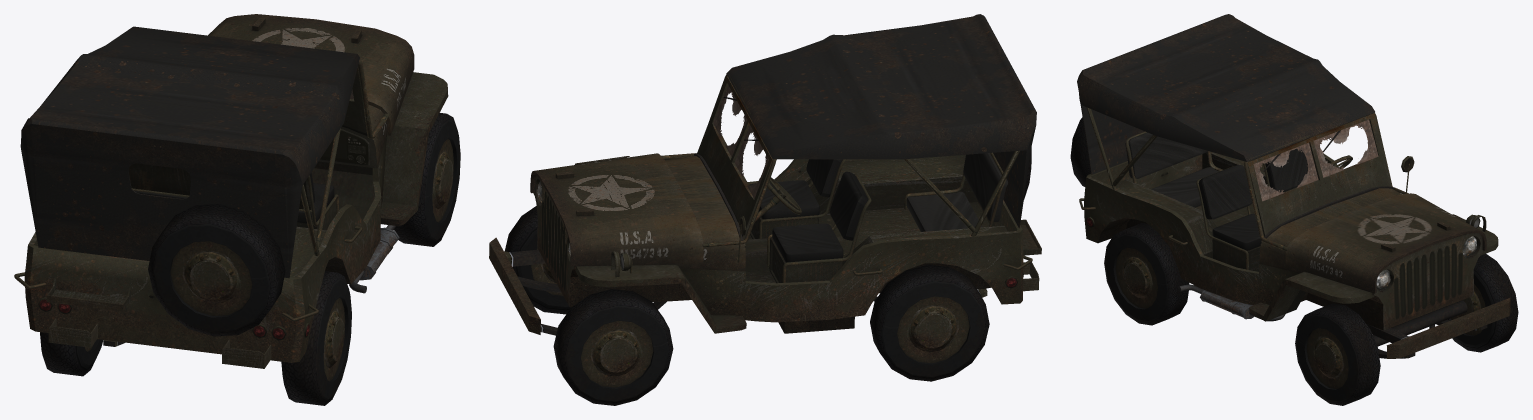
Rendered from jeep_americano_2.fbx.
The picture shows the model from 3 angles, left to right: view 1: azimuth 30°, elevation 25°; view 2: azimuth 150°, elevation 25°; view 3: azimuth 270°, elevation 25°; orthographic projection. The views are drawn at different scales.
Visible parts, largest first — view 1: Jeep2; view 2: Jeep2; view 3: Jeep2.
Boxes of the visible parts, x1,y1,x2,y2 form: Jeep2: (14,14,460,405); Jeep2: (489,14,1041,405); Jeep2: (1070,14,1518,405).
Bounding box in the file's own units: 410 × 223 × 404.
